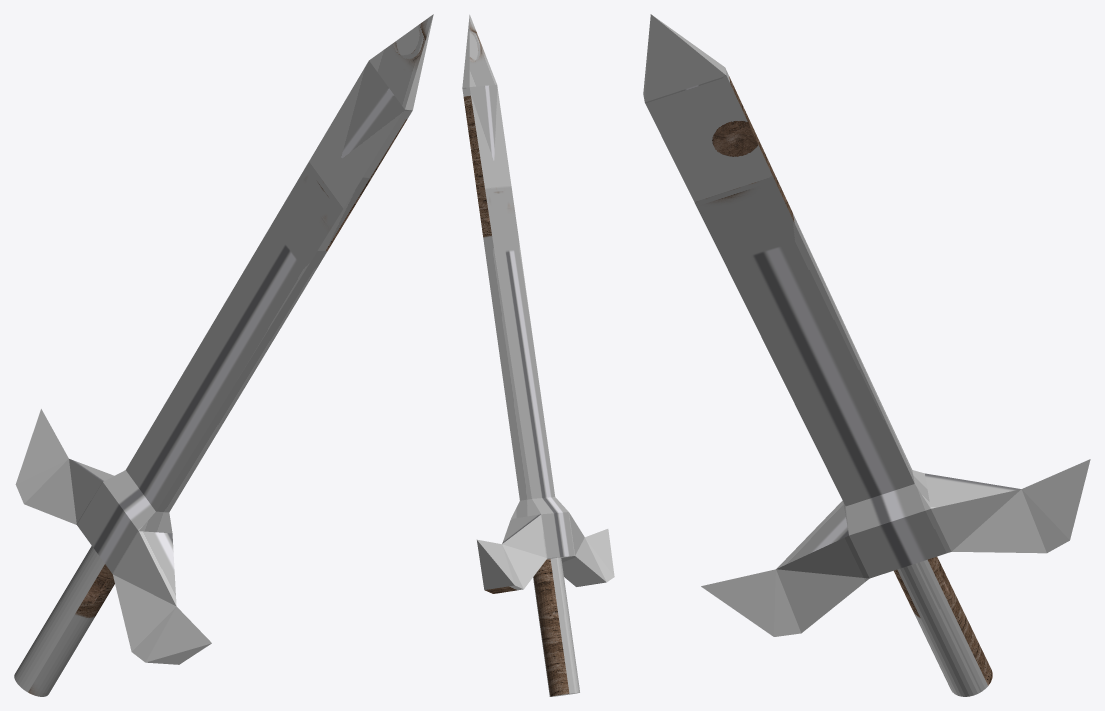
Rendered from Protagonista11.obj.
The picture shows the model from 3 angles, left to right: view 1: azimuth 30°, elevation 25°; view 2: azimuth 150°, elevation 25°; view 3: azimuth 270°, elevation 25°; orthographic projection. The views are drawn at different scales.
Parts seen in each view (by area): view 1: Cube; view 2: Cube; view 3: Cube.
Part boxes in pixels (x1=…): Cube: x1=14, y1=14, x2=433, y2=696; Cube: x1=462, y1=14, x2=614, y2=696; Cube: x1=643, y1=14, x2=1090, y2=696.
Bounding box in the file's own units: 0.6361 × 1.57 × 0.7719.
Materials: 1 (1 with a texture image).
